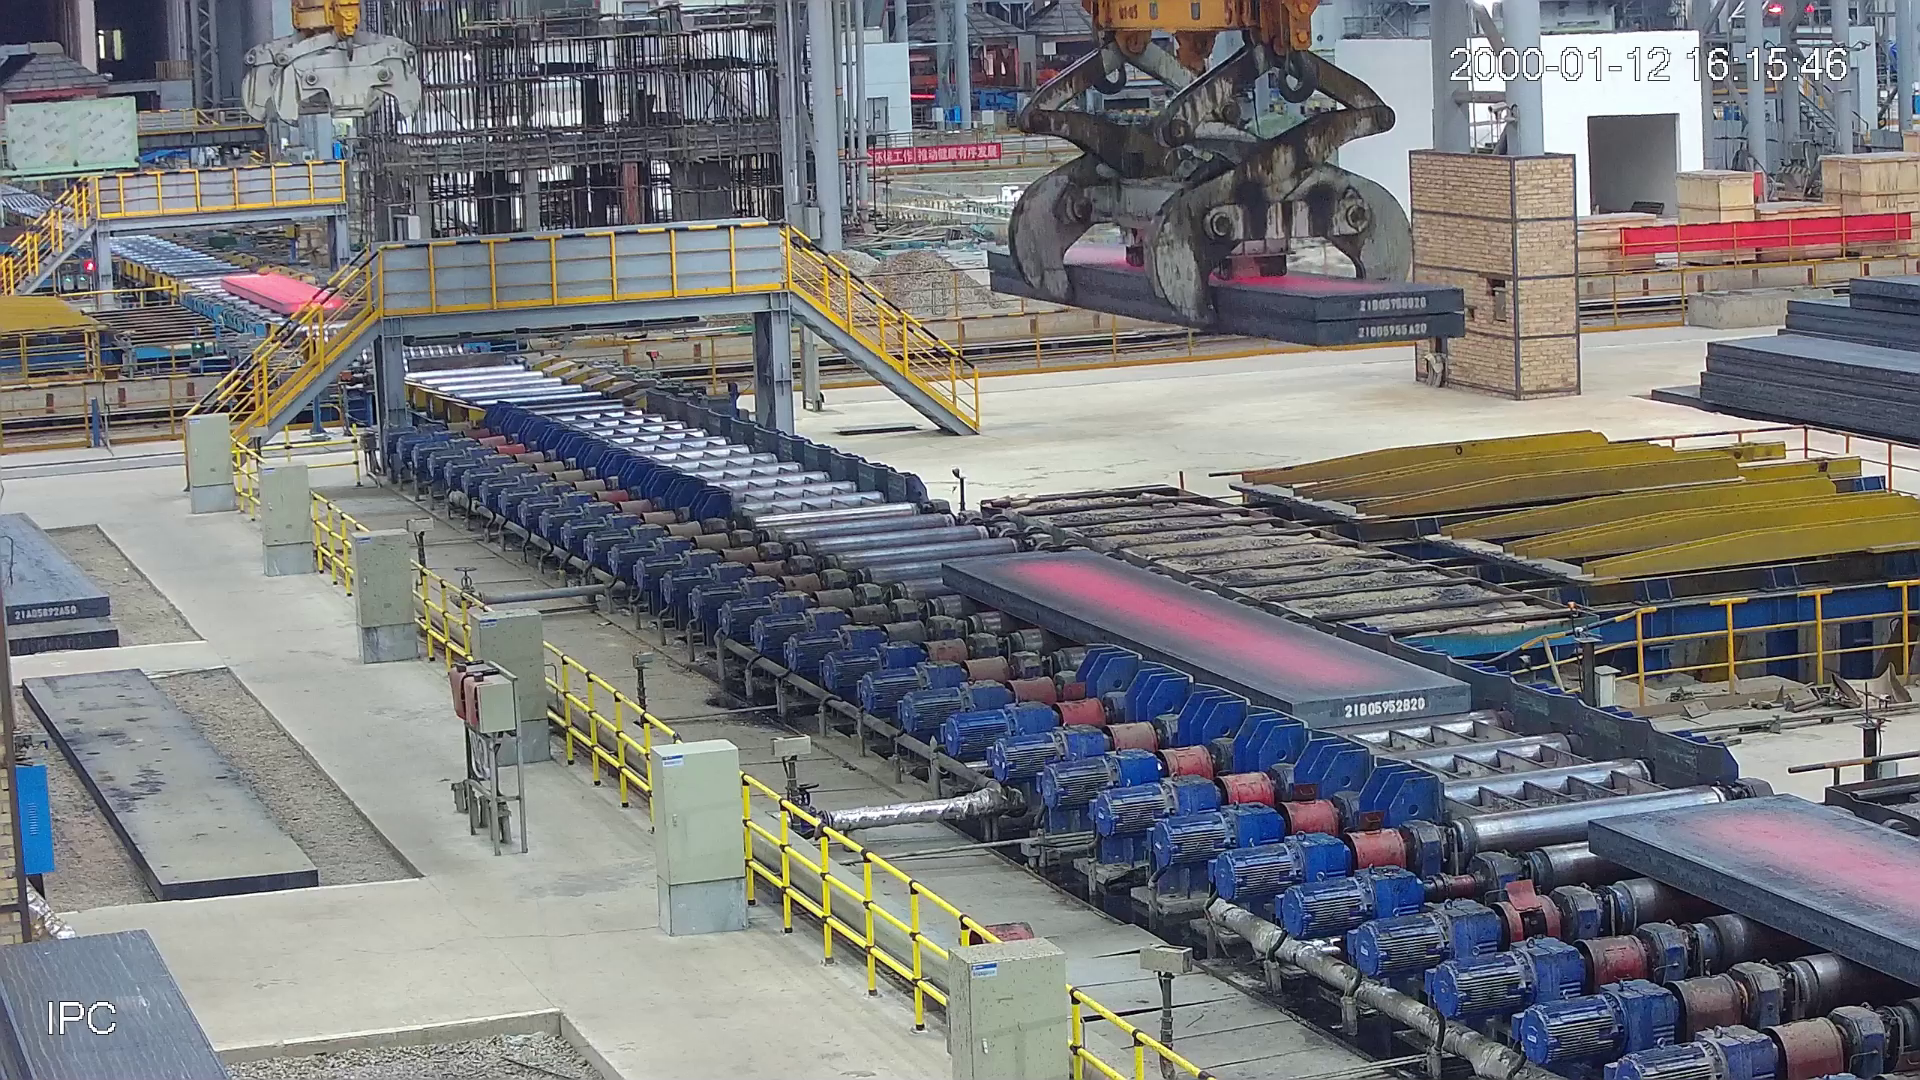crane: (243, 1, 422, 131)
craneandslab: (986, 1, 1472, 342)
slab: (944, 549, 1472, 731), (1580, 799, 1920, 1009), (222, 273, 349, 319)
